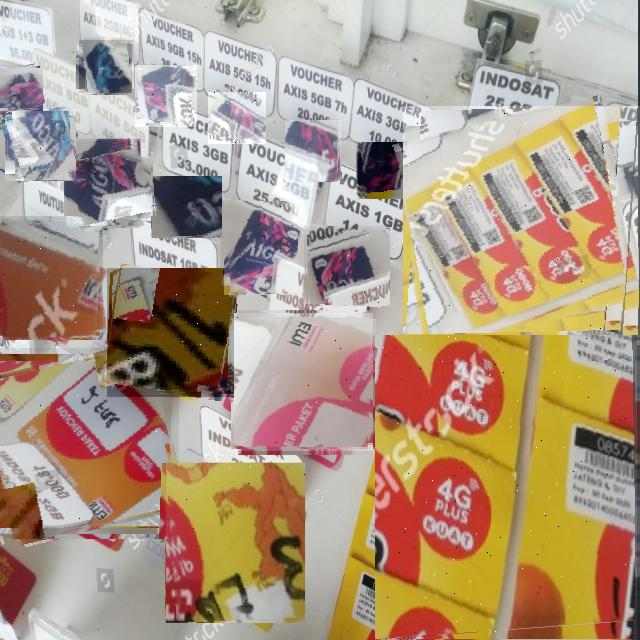Axis: (66, 141, 151, 226), (224, 201, 298, 295), (304, 226, 390, 306), (5, 109, 76, 181), (152, 176, 222, 238), (135, 65, 197, 127), (285, 120, 341, 182), (358, 142, 413, 199), (208, 92, 266, 144), (79, 40, 132, 93), (0, 65, 43, 111)
im3: (376, 335, 640, 640), (403, 106, 640, 345), (0, 348, 179, 539), (166, 463, 305, 623), (234, 314, 373, 454), (107, 268, 237, 397), (0, 216, 103, 340)
